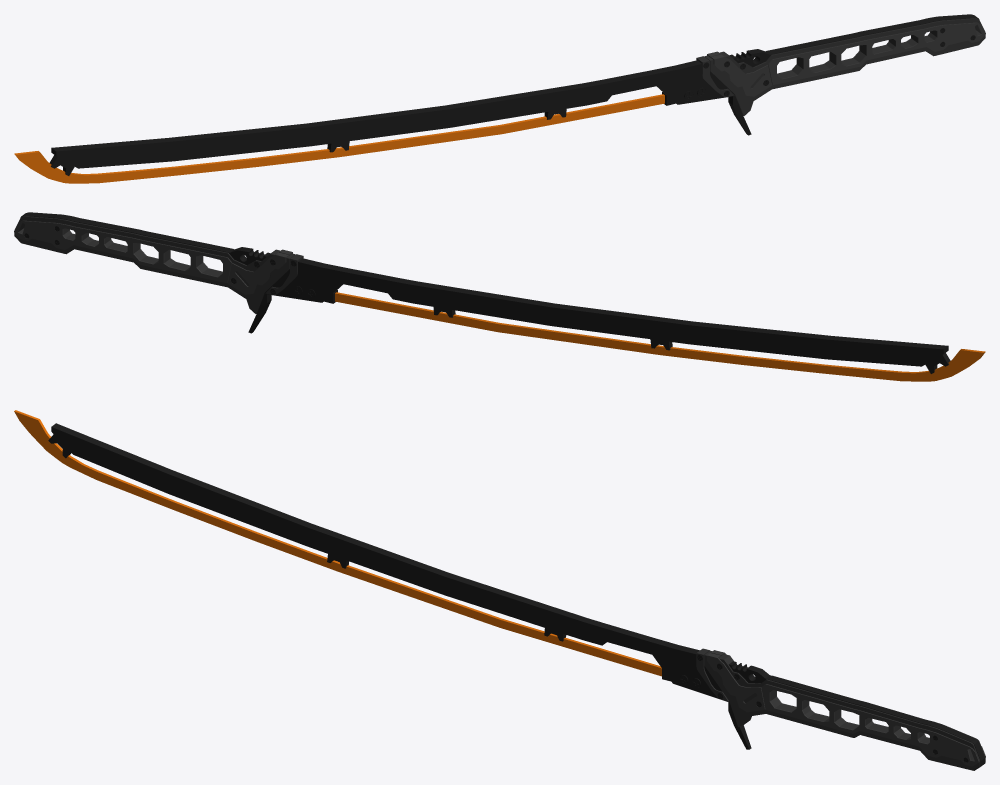
The model's file is thermal_katana_2.fbx.
The picture shows the model from 3 angles, top to bottom: view 1: azimuth 30°, elevation 25°; view 2: azimuth 150°, elevation 25°; view 3: azimuth 330°, elevation 25°; orthographic projection.
Parts seen in each view (by area): view 1: top_blade3, blade1, handle4, holes4, handle3, oval_hole3; view 2: top_blade3, blade1, handle4, holes4, handle3, oval_hole3; view 3: top_blade3, blade1, handle4, holes4, handle3, oval_hole3.
Part boxes in pixels (box(x1,y1,x2,y2)): top_blade3: box(51, 60, 732, 168); blade1: box(14, 94, 664, 183); handle4: box(704, 14, 985, 115); holes4: box(768, 22, 985, 84); handle3: box(728, 14, 981, 135); oval_hole3: box(707, 51, 772, 96); top_blade3: box(267, 258, 948, 366); blade1: box(335, 292, 985, 381); handle4: box(14, 212, 295, 313); holes4: box(14, 220, 231, 282); handle3: box(18, 212, 271, 333); oval_hole3: box(227, 249, 292, 294); top_blade3: box(51, 423, 728, 701); blade1: box(14, 410, 661, 676); handle4: box(704, 650, 985, 770); holes4: box(761, 684, 985, 766); handle3: box(728, 661, 985, 770); oval_hole3: box(707, 650, 765, 712).
Bounding box in the file's own units: 13.8 × 0.1863 × 2.17.
